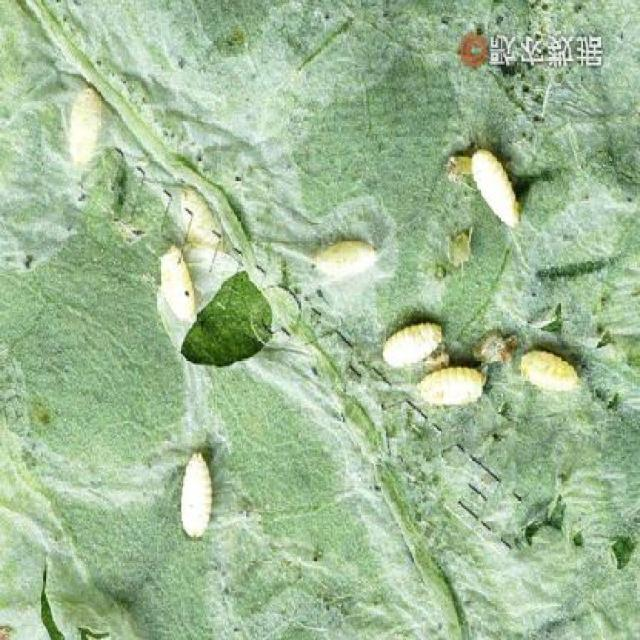whorl-maggot: (462, 141, 529, 237), (508, 336, 590, 401), (60, 66, 105, 177), (409, 362, 500, 415), (371, 315, 447, 376), (178, 442, 216, 546), (314, 229, 380, 285), (162, 246, 196, 322)
